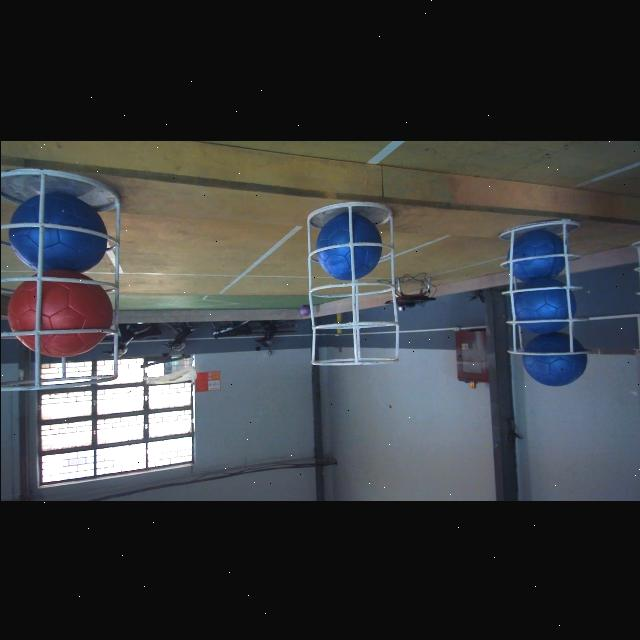B: (7, 192, 107, 272), (315, 210, 381, 280), (512, 276, 576, 332), (522, 331, 586, 385), (506, 230, 566, 282)
R: (6, 266, 114, 356)
